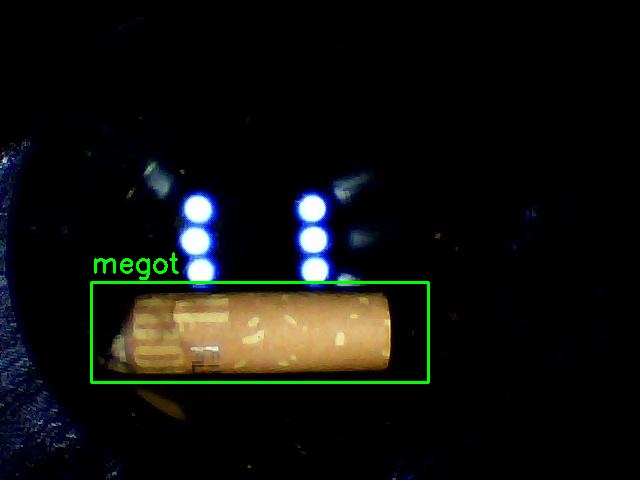megot: (91, 282, 428, 382)
